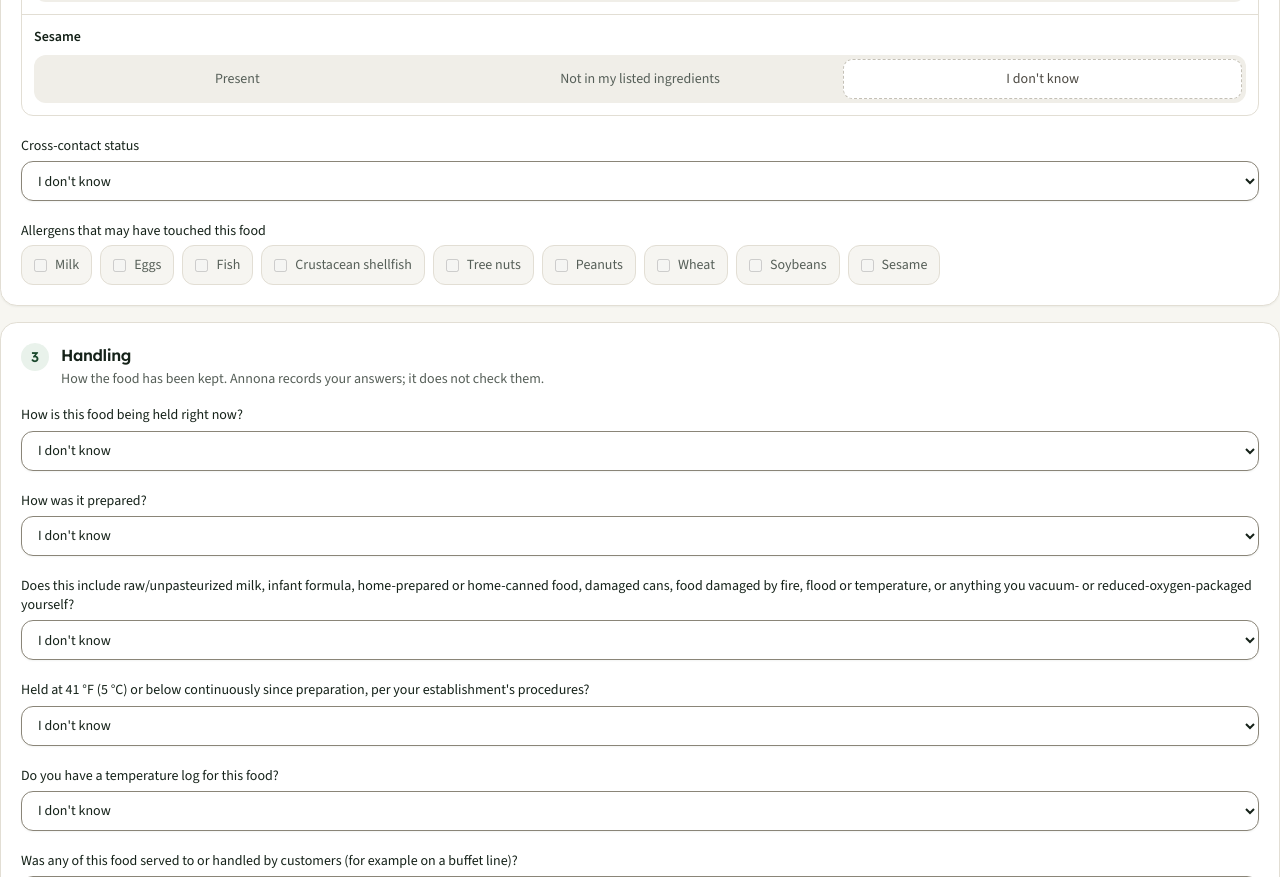
Test: the cold-holding and temperature-log questions › are hidden when the food is hot_held, with a plain note why
This screenshot has width=1280, height=877.
(page scrolled)
Select "Held hot" in the dropdown labelled "How is this food being held right now?": (640, 450) [21,430,1259,470]
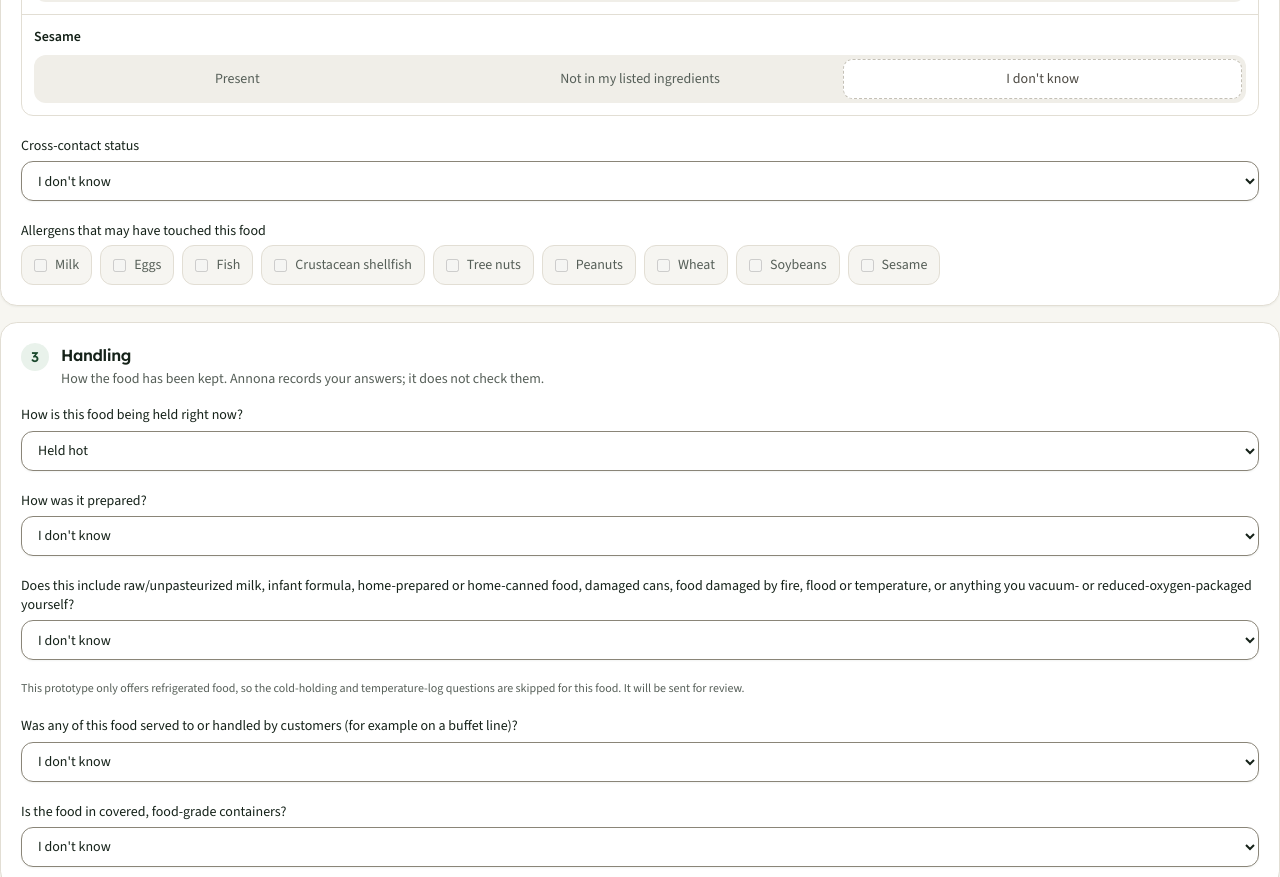
Now the label labelled "Held at 41" is gone
Now the label labelled "temperature log" is gone
Now the text with test id "cold-questions-skipped" shows "only offers refrigerated food", box [21,680,745,696]
